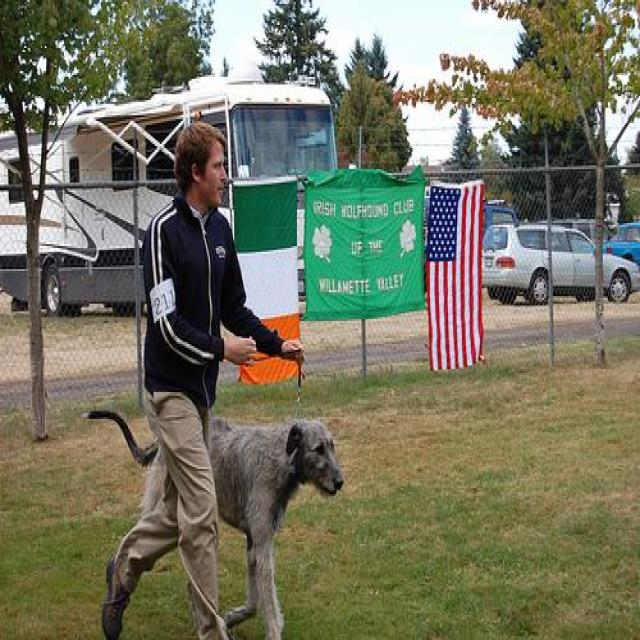irish_wolfhound: (66, 406, 342, 638)
